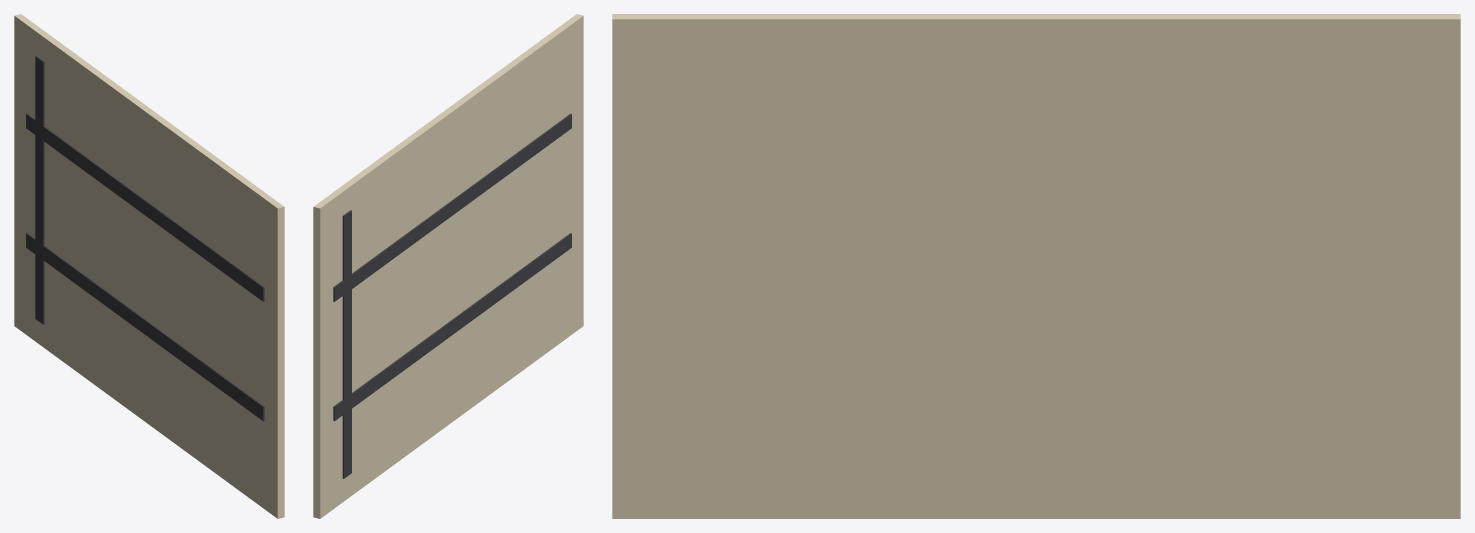
File: town_map.glb
3 renders of one model, left to right at view 1: azimuth 30°, elevation 25°; view 2: azimuth 150°, elevation 25°; view 3: azimuth 270°, elevation 25°, orthographic. The views are drawn at different scales.
Visible parts, largest first — view 1: Box1, Box3, Box2, Box4; view 2: Box1, Box2, Box3, Box4; view 3: Box1.
Boxes of the visible parts, x1=… form: Box1: x1=14, y1=14, x2=284, y2=518; Box3: x1=26, y1=233, x2=264, y2=421; Box2: x1=26, y1=113, x2=264, y2=301; Box4: x1=35, y1=56, x2=44, y2=324; Box1: x1=313, y1=14, x2=583, y2=518; Box2: x1=333, y1=113, x2=571, y2=301; Box3: x1=333, y1=233, x2=571, y2=421; Box4: x1=342, y1=210, x2=351, y2=478; Box1: x1=612, y1=14, x2=1460, y2=518.
Size of the model in its own units: 0.036 by 1.3 by 2.
